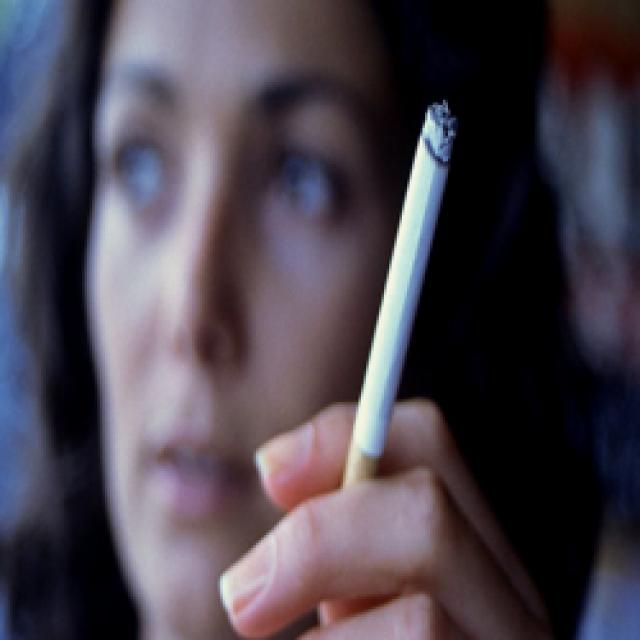Smooking: (346, 87, 473, 502)
